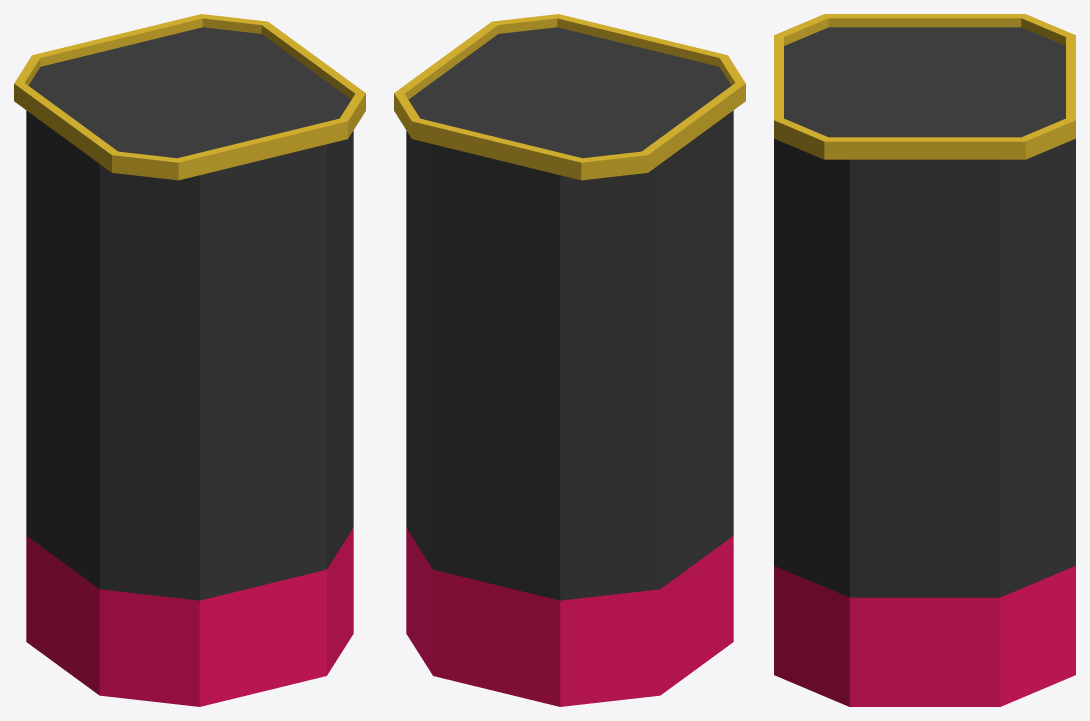
The model's file is Demo_Building.fbx.
3 views of the same model, side by side, from view 1: azimuth 30°, elevation 25°; view 2: azimuth 150°, elevation 25°; view 3: azimuth 270°, elevation 25° (orthographic). The views are drawn at different scales.
Parts seen in each view (by area): view 1: mergedBlocks; view 2: mergedBlocks; view 3: mergedBlocks.
Boxes of the visible parts, <box> form: mergedBlocks: <box>14,14,365,706</box>; mergedBlocks: <box>394,14,745,706</box>; mergedBlocks: <box>774,14,1075,706</box>.
Bounding box in the file's own units: 30 × 62 × 30.
